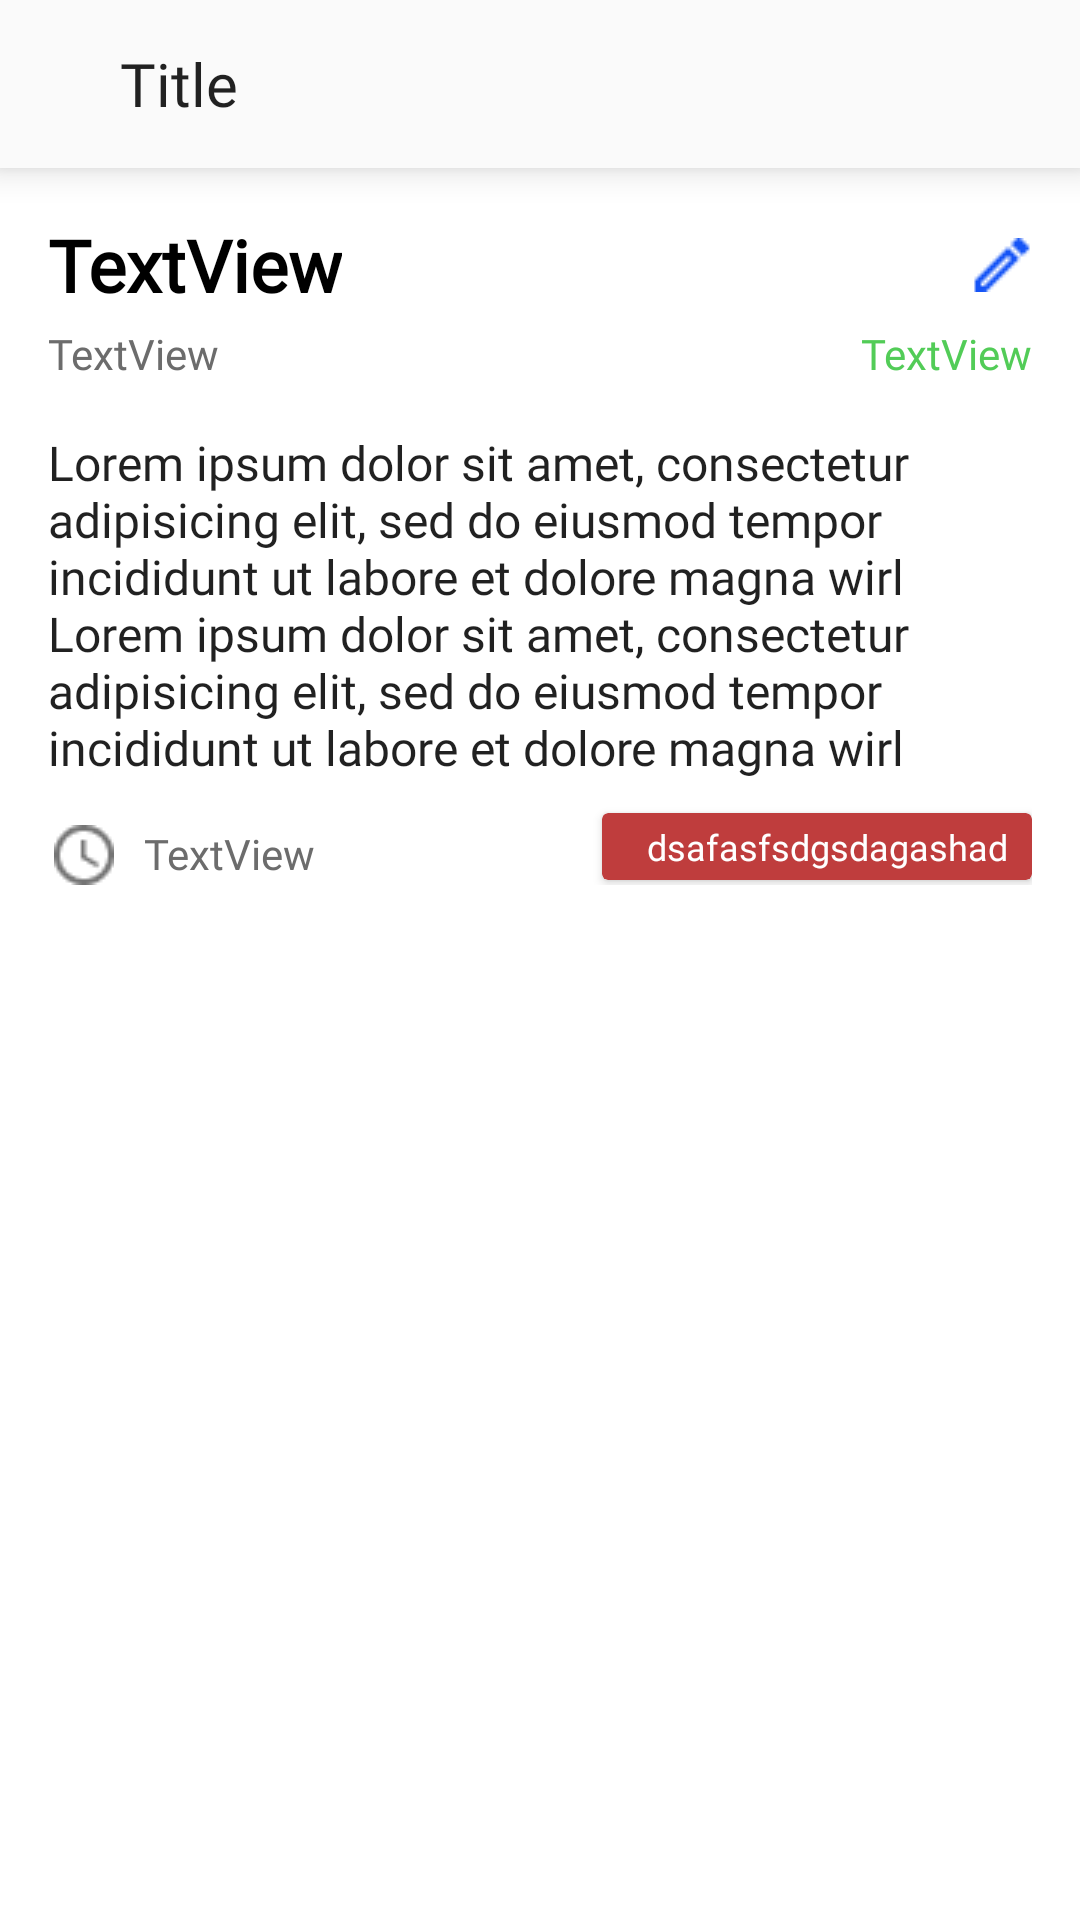

Screen size 1080 x 1920. Icon name, then its center in pixels as (x,y):
edit: (1002,265)
